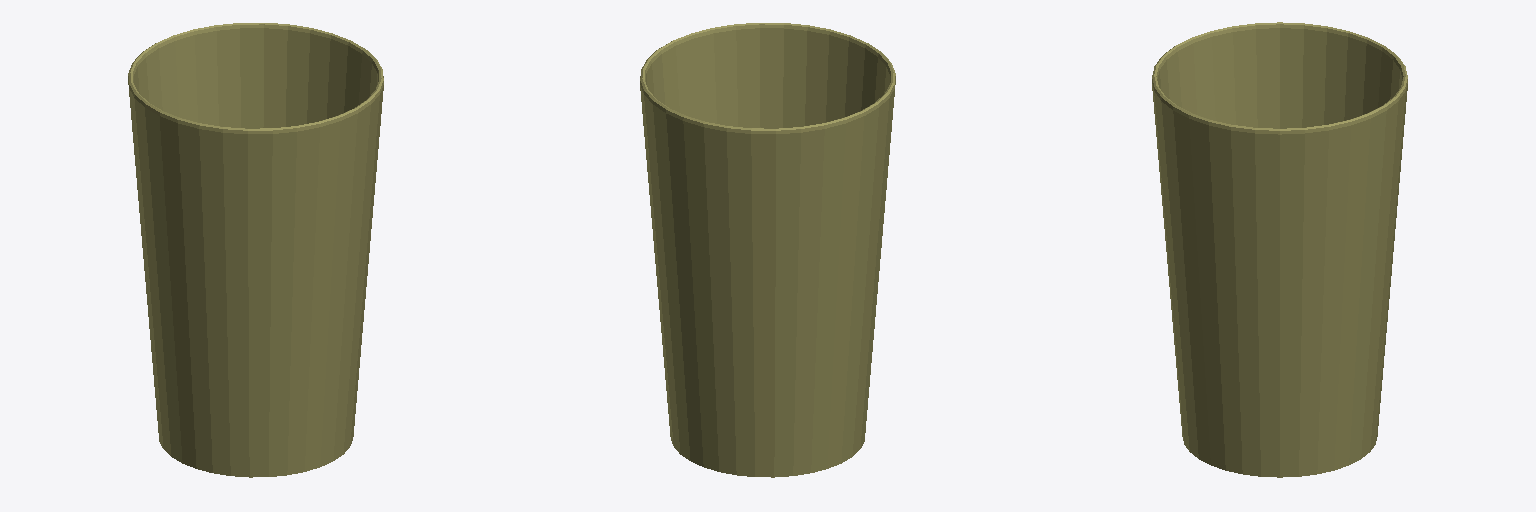
Rendered from Glass.obj.
3 renders of one model, left to right at view 1: azimuth 30°, elevation 25°; view 2: azimuth 150°, elevation 25°; view 3: azimuth 270°, elevation 25°, orthographic.
Parts seen in each view (by area): view 1: glass_hi; view 2: glass_hi; view 3: glass_hi.
Boxes of the visible parts, <box> form: glass_hi: <box>128,23,383,477</box>; glass_hi: <box>640,23,895,477</box>; glass_hi: <box>1152,22,1407,477</box>.
Size of the model in its own units: 0.1291 by 0.2001 by 0.1291.